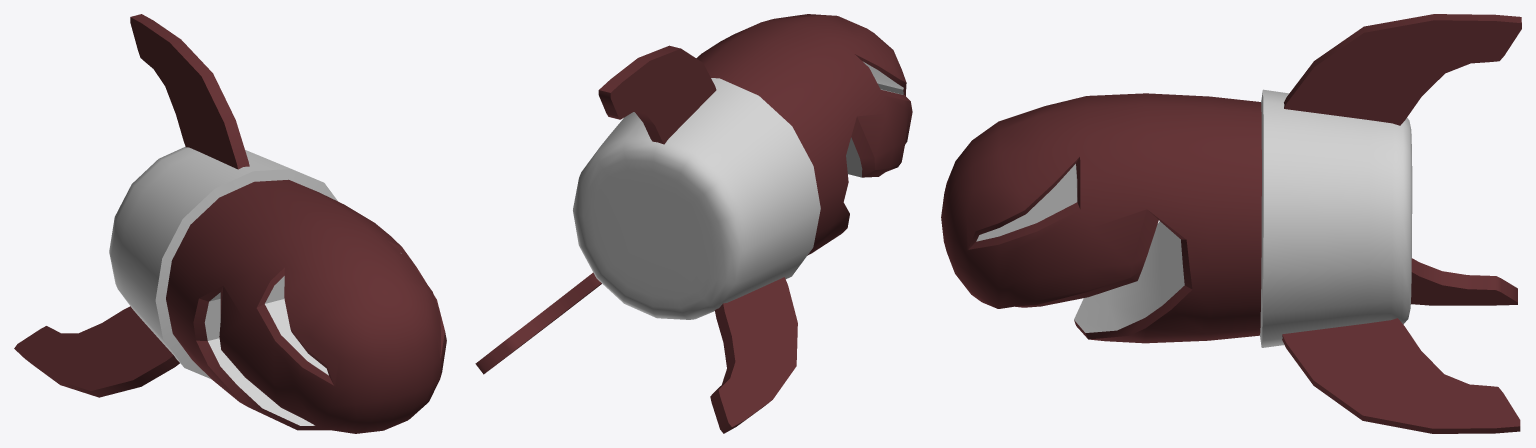
File: RocketFly.fbx
3 views of the same model, side by side, from view 1: azimuth 30°, elevation 25°; view 2: azimuth 150°, elevation 25°; view 3: azimuth 270°, elevation 25° (orthographic). The views are drawn at different scales.
Parts seen in each view (by area): view 1: Rocket; view 2: Rocket; view 3: Rocket.
Part boxes in pixels (bbox=[...]): Rocket: bbox=[14, 14, 446, 433]; Rocket: bbox=[475, 14, 912, 433]; Rocket: bbox=[941, 14, 1521, 433].
Size of the model in its own units: 41.46 by 48.86 by 72.95.
